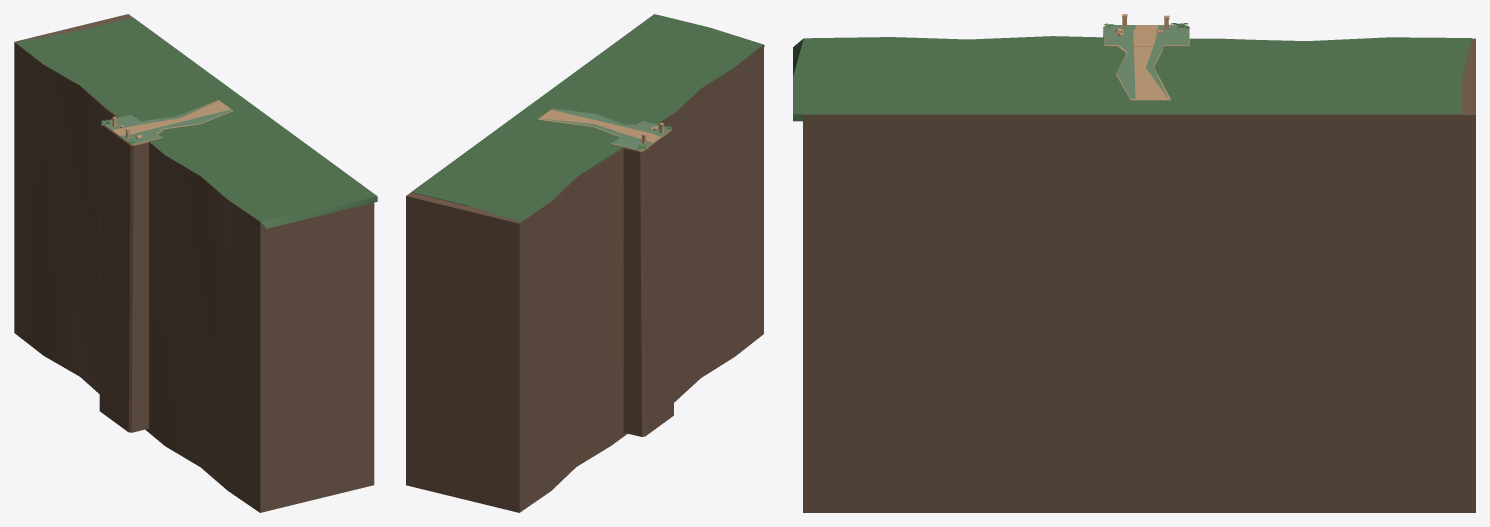
The model's file is level_1_block_5.gltf.
3 renders of one model, left to right at view 1: azimuth 30°, elevation 25°; view 2: azimuth 150°, elevation 25°; view 3: azimuth 270°, elevation 25°, orthographic. The views are drawn at different scales.
Parts seen in each view (by area): view 1: Cube, Cube 2, Shape (×4); view 2: Cube, Cube 2, Shape (×4); view 3: Cube, Cube 2, Shape (×3).
Part boxes in pixels (box(x1,y1,x2,y2)): Cube: box(14, 14, 374, 512); Cube 2: box(15, 17, 377, 228); Shape (×4): box(99, 100, 233, 432); Cube: box(406, 44, 763, 512); Cube 2: box(411, 14, 764, 222); Shape (×4): box(537, 108, 673, 436); Cube: box(803, 38, 1475, 512); Cube 2: box(793, 36, 1472, 121); Shape (×3): box(1103, 25, 1188, 100).
Size of the model in its own units: 17.38 by 36.9 by 55.41.
